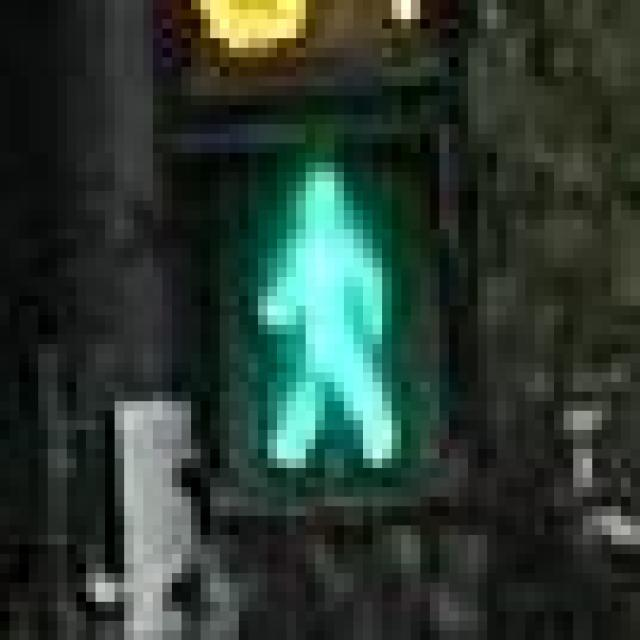green_light: (162, 96, 449, 526)
